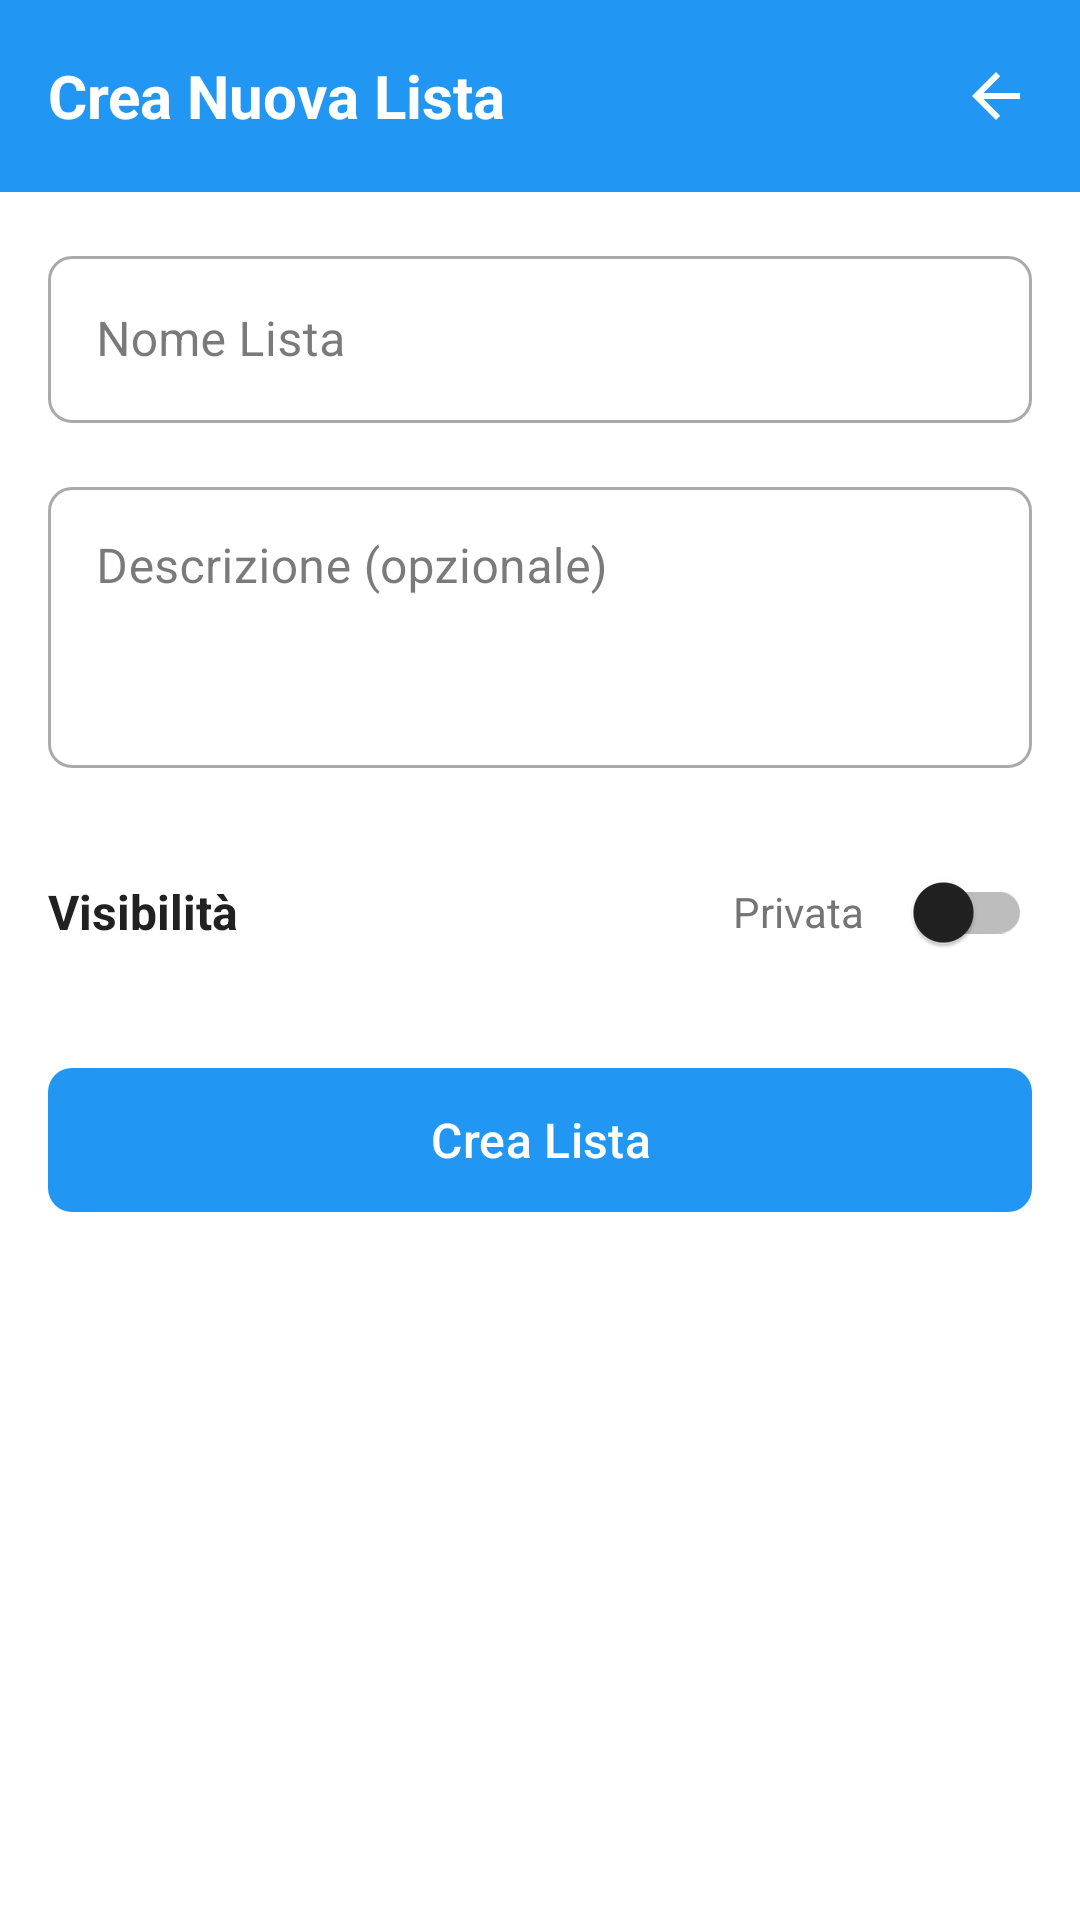

Where to tap for icons on this 1080 × 1920 app screen, as point (x, y):
chiudi: point (996, 96)
